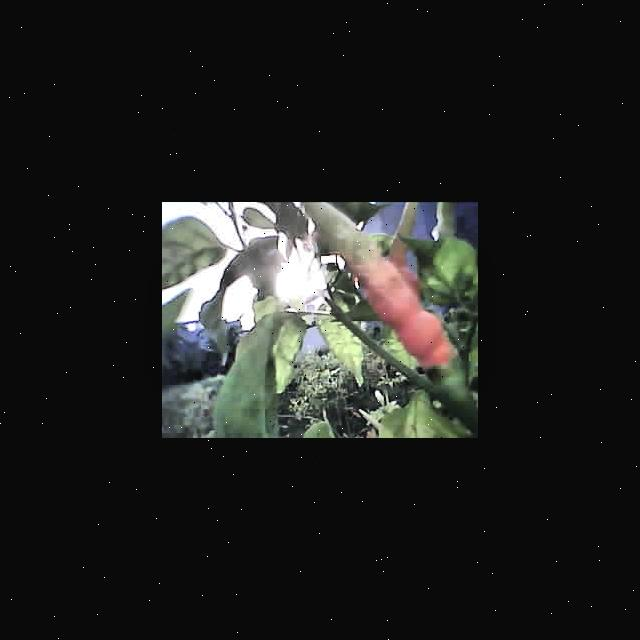Cabai: (316, 203, 453, 347)
